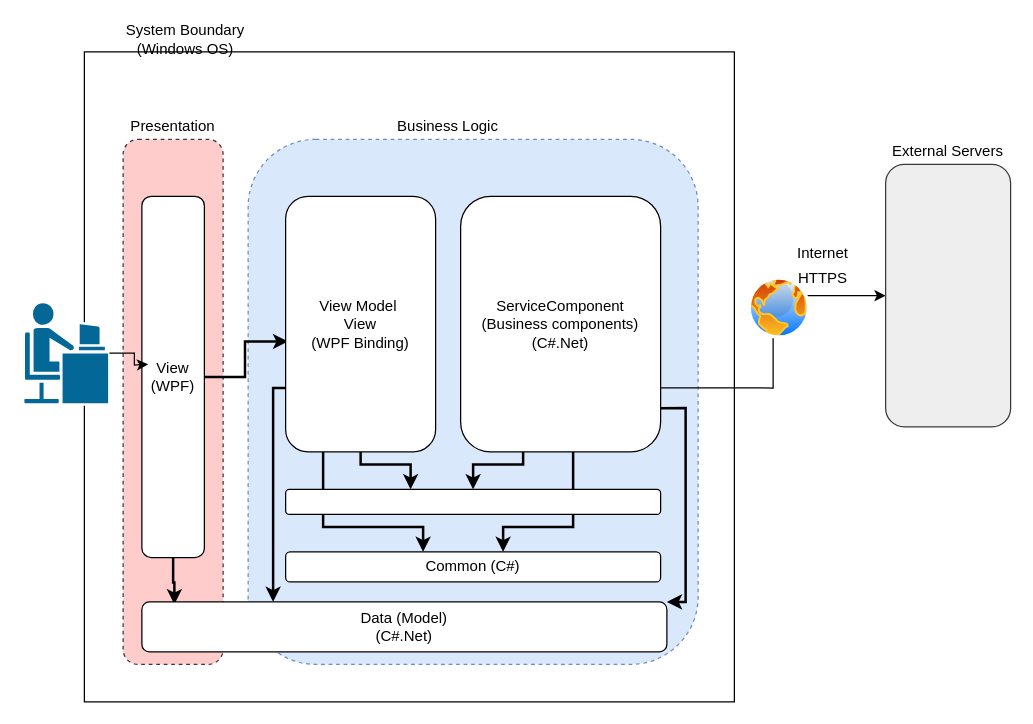
The diagram is 1033 pixels wide and 724 high, and some of its shapes have lost their labels. Each missing label, with the box of its shape:
Contracts/Interfaces (C#): (284, 488, 661, 514)
Third Party Data Sources (Flicker/NewsApI/ Twitter etc): (884, 163, 1011, 427)
